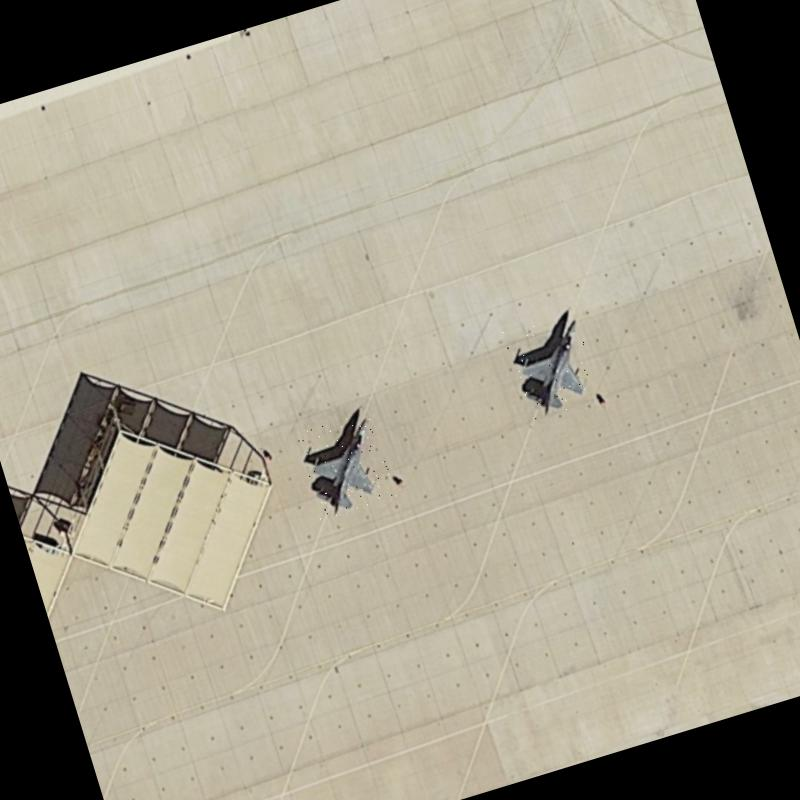A5: (500, 308, 608, 423), (294, 411, 398, 522)
